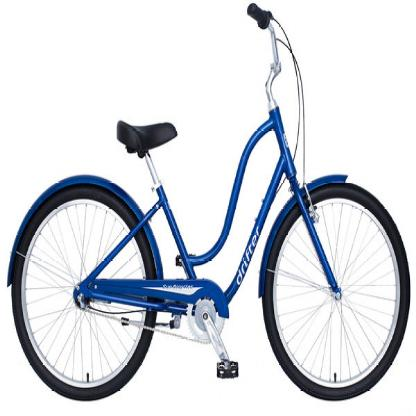Bike: (8, 5, 410, 402)
